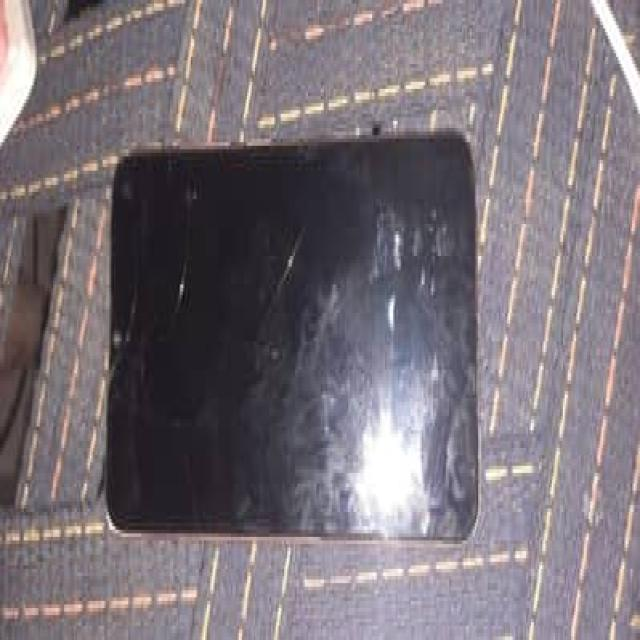mobile phone: (102, 128, 480, 548)
